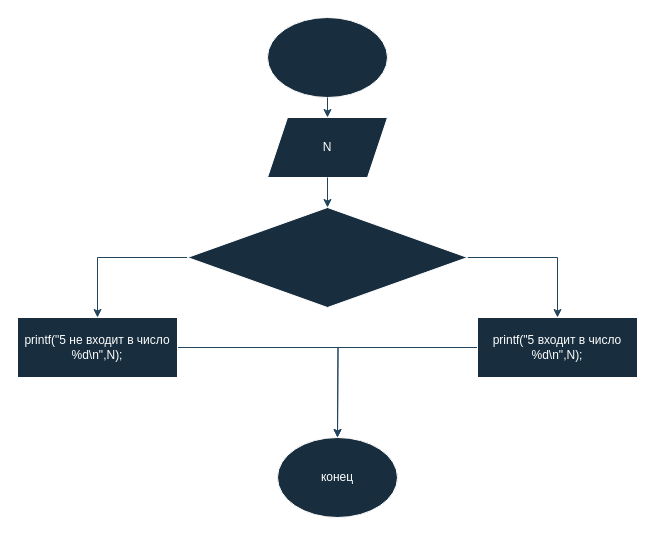
Image size: 655x535. Some labels were removed from this diagram. Here are the shapes that lost their labels. From the top down, the centre of each, then its label:
At [327,57]: "начало".
At [327,257]: "N % 10 == 5 || N / 10 % 10 == 5 || N / 100 == 5".
